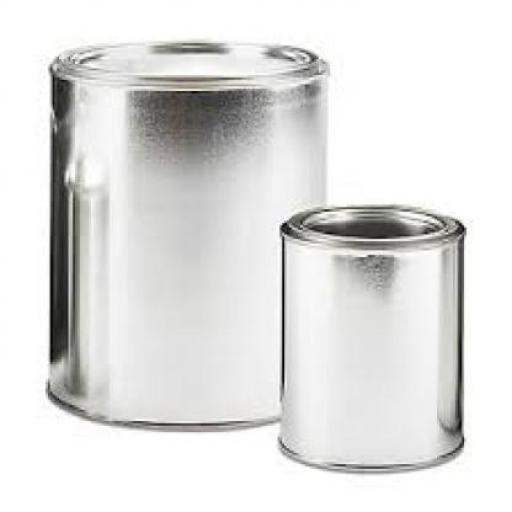metal: (43, 39, 326, 430), (276, 202, 462, 471)
